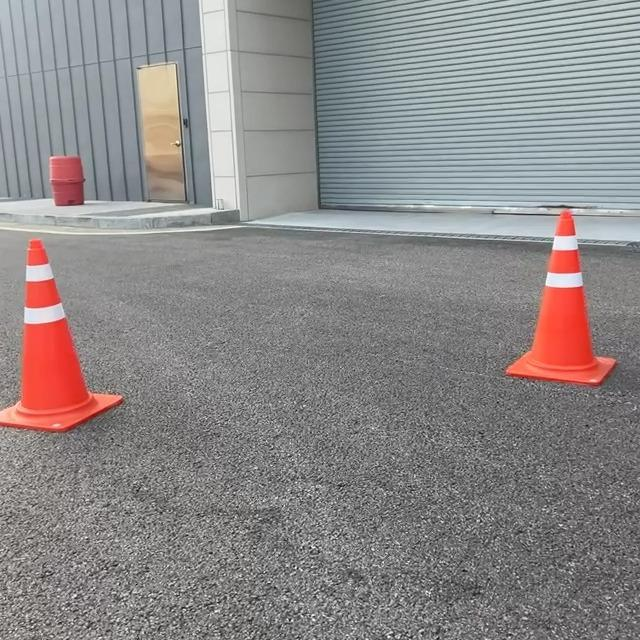fallen_object: (483, 199, 640, 528), (0, 203, 117, 416)
